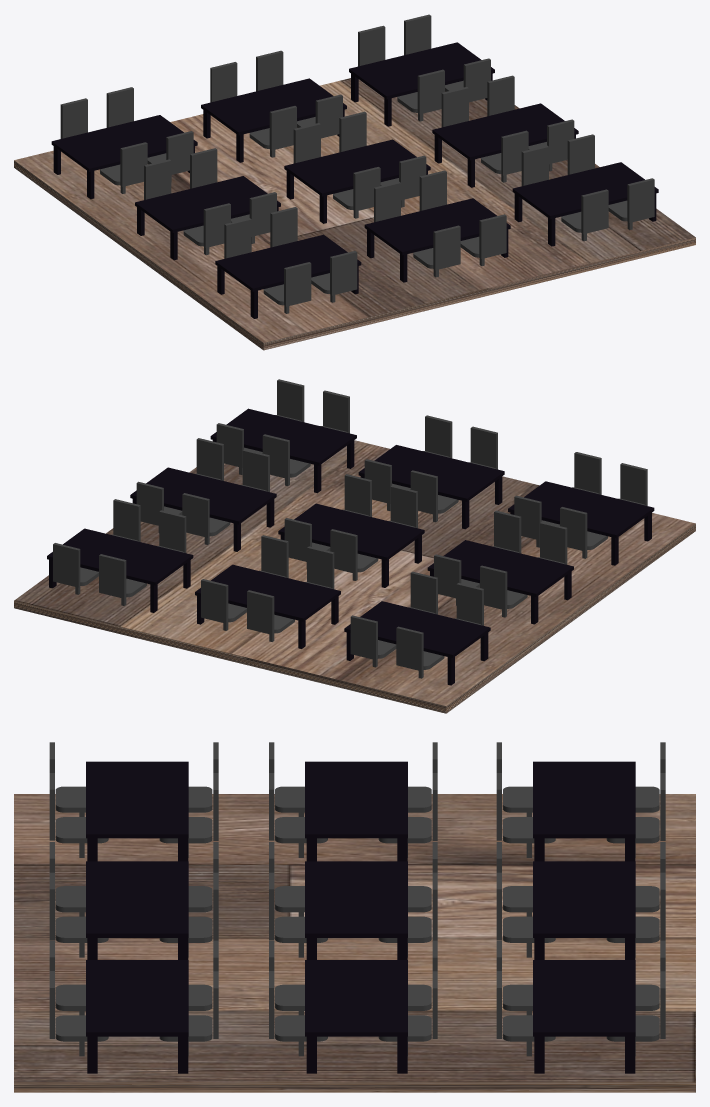
File: floor_with_animation.glb
3 renders of one model, top to bottom at view 1: azimuth 30°, elevation 25°; view 2: azimuth 150°, elevation 25°; view 3: azimuth 270°, elevation 25°, orthographic. The views are drawn at different scales.
Visible parts, largest first — view 1: Cube, table_with_chairs, table_with_chairs.003, table_with_chairs.006, table_with_chairs.008, table_with_chairs.005, table_with_chairs.004, table_with_chairs.001, table_with_chairs.002, table_with_chairs.007, Cube.025, Cube.013 (+34 smaller); view 2: Cube, table_with_chairs.008, table_with_chairs.002, table_with_chairs.005, table_with_chairs.001, table_with_chairs.004, table_with_chairs.006, table_with_chairs.007, table_with_chairs.003, table_with_chairs, Cube.036, Cube.035 (+34 smaller); view 3: Cube, table_with_chairs, table_with_chairs.001, table_with_chairs.002, table_with_chairs.006, table_with_chairs.007, table_with_chairs.008, table_with_chairs.003, table_with_chairs.004, table_with_chairs.005, Cube.003, Cube.014 (+34 smaller).
Part boxes in pixels (left/top/right/bottom): Cube: left=14, top=78, right=695, bottom=350; table_with_chairs: left=512, top=162, right=658, bottom=246; table_with_chairs.003: left=364, top=198, right=510, bottom=282; table_with_chairs.006: left=215, top=234, right=361, bottom=318; table_with_chairs.008: left=51, top=115, right=197, bottom=199; table_with_chairs.005: left=201, top=78, right=346, bottom=162; table_with_chairs.004: left=284, top=139, right=430, bottom=223; table_with_chairs.001: left=432, top=103, right=578, bottom=187; table_with_chairs.002: left=349, top=42, right=494, bottom=126; table_with_chairs.007: left=135, top=176, right=280, bottom=260; Cube.025: left=263, top=262, right=311, bottom=313; Cube.013: left=413, top=225, right=460, bottom=277; Cube: left=14, top=440, right=695, bottom=713; table_with_chairs.008: left=344, top=601, right=490, bottom=685; table_with_chairs.002: left=47, top=528, right=193, bottom=612; table_with_chairs.005: left=195, top=564, right=340, bottom=648; table_with_chairs.001: left=130, top=467, right=276, bottom=551; table_with_chairs.004: left=278, top=503, right=424, bottom=587; table_with_chairs.006: left=508, top=481, right=654, bottom=565; table_with_chairs.007: left=427, top=540, right=573, bottom=624; table_with_chairs.003: left=358, top=445, right=504, bottom=529; table_with_chairs: left=210, top=408, right=356, bottom=493; Cube.036: left=396, top=626, right=444, bottom=678; Cube.035: left=350, top=615, right=396, bottom=667; Cube: left=14, top=794, right=695, bottom=1092; table_with_chairs: left=86, top=960, right=188, bottom=1073; table_with_chairs.001: left=305, top=960, right=407, bottom=1073; table_with_chairs.002: left=533, top=960, right=635, bottom=1073; table_with_chairs.006: left=86, top=761, right=188, bottom=861; table_with_chairs.007: left=305, top=761, right=407, bottom=861; table_with_chairs.008: left=533, top=761, right=635, bottom=861; table_with_chairs.003: left=86, top=861, right=188, bottom=959; table_with_chairs.004: left=305, top=861, right=407, bottom=959; table_with_chairs.005: left=533, top=861, right=635, bottom=959; Cube.003: left=49, top=971, right=108, bottom=1056; Cube.014: left=49, top=872, right=108, bottom=957.
Bounding box in the file's own units: 12 × 1.66 × 12.
Materials: 3 (1 with a texture image).
